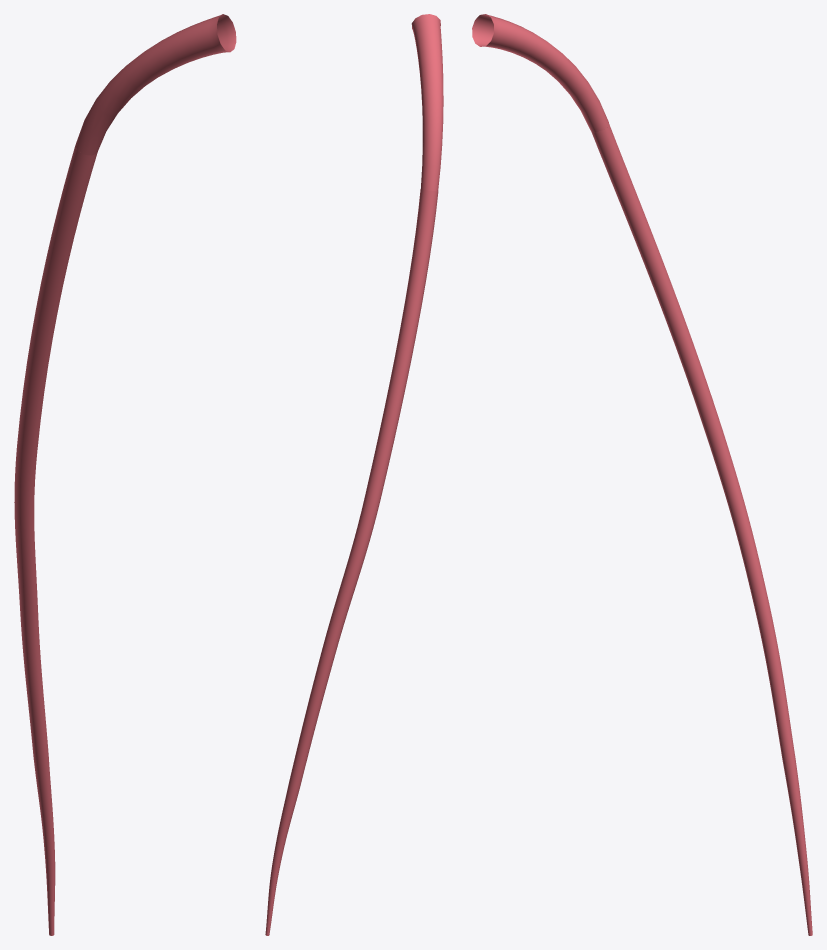
3 views of the same model, side by side, from view 1: azimuth 30°, elevation 25°; view 2: azimuth 150°, elevation 25°; view 3: azimuth 270°, elevation 25° (orthographic). The views are drawn at different scales.
Parts seen in each view (by area): view 1: ZA_0fbc0f464a27f6e1; view 2: ZA_0fbc0f464a27f6e1; view 3: ZA_0fbc0f464a27f6e1.
Boxes of the visible parts, <box> form: ZA_0fbc0f464a27f6e1: <box>14,14,236,935</box>; ZA_0fbc0f464a27f6e1: <box>265,14,443,935</box>; ZA_0fbc0f464a27f6e1: <box>472,14,812,935</box>.
Bounding box in the file's own units: 0.00917 × 0.0898 × 0.0304.
